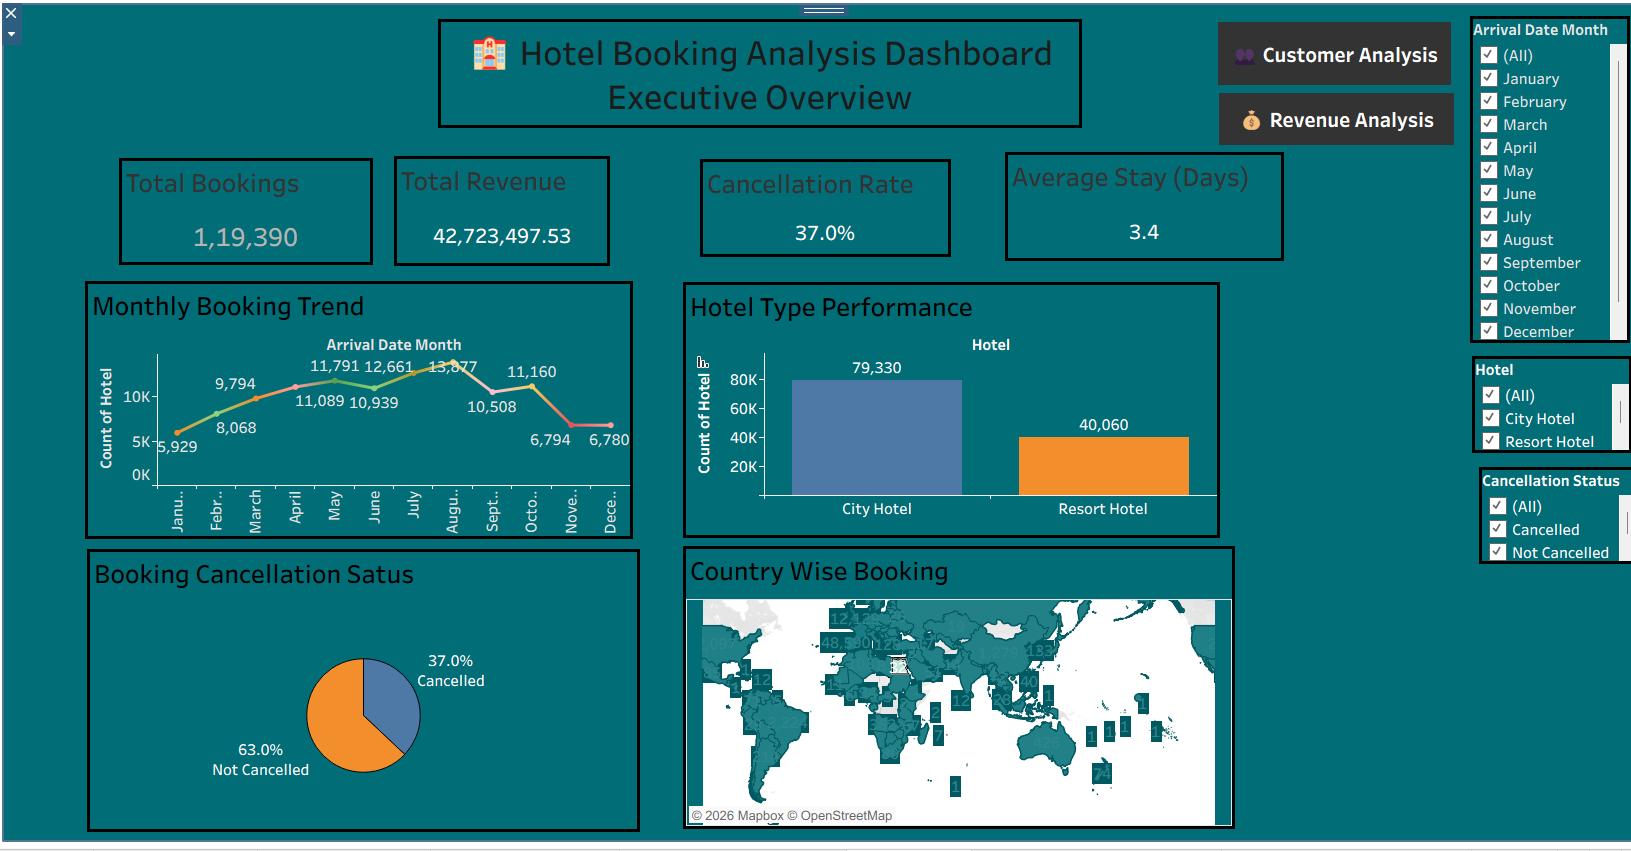

The page's visual inventory and layout, read from the dashboard file:
{"tool":"tableau","page":{"name":"Dashboard 1","canvas":[1000,1000],"units":"permille","ordinal":0},"visuals":[{"type":"filter","title":"Monthly Booking Trend","param":"[federated.0a99urz0fhxp8b12dro9z075rd1u].[none:arrival_date_month:nk]","box":[889.6,22.3,96.6,384.2]},{"type":"text","box":[266.8,25.9,388.7,128.1]},{"type":"dashboard-object","box":[737.5,29.4,140.6,74]},{"type":"dashboard-object","box":[738.1,112.8,141.8,61.1]},{"type":"worksheet","title":"KPI - Average Stay","mark":"Automatic","box":[608.9,182.1,168.4,128.1]},{"type":"worksheet","title":"KPI - Total Revenue","mark":"Automatic","box":[240.2,186.8,130.4,129.3]},{"type":"worksheet","title":"KPI - Total Bookings","mark":"Automatic","box":[74.2,189.2,153.3,125.7]},{"type":"worksheet","title":"KPI - Cancellation Rate","mark":"Automatic","box":[424.9,190.4,151.5,115.2]},{"type":"worksheet","title":"Monthly Booking Trend","mark":"Line","rows":["hotel"],"cols":["arrival_date_month"],"box":[53.7,333.7,330.7,303.2]},{"type":"worksheet","title":"Hotel Type Performance","mark":"Automatic","rows":["hotel"],"cols":["hotel"],"box":[414.6,334.9,324.1,300.8]},{"type":"filter","title":"Hotel Type Performance","param":"[federated.0a99urz0fhxp8b12dro9z075rd1u].[none:hotel:nk]","box":[890.8,421.9,96.6,114]},{"type":"filter","title":"Booking Cancellation Status","param":"[federated.0a99urz0fhxp8b12dro9z075rd1u].[none:Calculation_1199867273863174:nk]","box":[895,552.3,96.6,114]},{"type":"worksheet","title":"Country Wise Bookings","mark":"Multipolygon","box":[414.6,645.1,333.1,332.6]},{"type":"worksheet","title":"Booking Cancellation Status","mark":"Pie","box":[54.9,648.6,333.7,332.6]}]}

Visuals, with their boxes on the dashboard's canvas, which has no fixed pixel size, in thousandths of its width and height (x1, y1, x2, y2). These are canvas units, not pixel positions in the 1631x851 screenshot, which may show the page scaled, cropped or inside an application window:
"Monthly Booking Trend" filter: {"left": 890, "top": 22, "right": 986, "bottom": 406}
text: {"left": 267, "top": 26, "right": 656, "bottom": 154}
dashboard-object: {"left": 738, "top": 29, "right": 878, "bottom": 103}
dashboard-object: {"left": 738, "top": 113, "right": 880, "bottom": 174}
"KPI - Average Stay" worksheet: {"left": 609, "top": 182, "right": 777, "bottom": 310}
"KPI - Total Revenue" worksheet: {"left": 240, "top": 187, "right": 371, "bottom": 316}
"KPI - Total Bookings" worksheet: {"left": 74, "top": 189, "right": 228, "bottom": 315}
"KPI - Cancellation Rate" worksheet: {"left": 425, "top": 190, "right": 576, "bottom": 306}
"Monthly Booking Trend" worksheet (Line marks): {"left": 54, "top": 334, "right": 384, "bottom": 637}
"Hotel Type Performance" worksheet: {"left": 415, "top": 335, "right": 739, "bottom": 636}
"Hotel Type Performance" filter: {"left": 891, "top": 422, "right": 987, "bottom": 536}
"Booking Cancellation Status" filter: {"left": 895, "top": 552, "right": 992, "bottom": 666}
"Country Wise Bookings" worksheet (Multipolygon marks): {"left": 415, "top": 645, "right": 748, "bottom": 978}
"Booking Cancellation Status" worksheet (Pie marks): {"left": 55, "top": 649, "right": 389, "bottom": 981}
